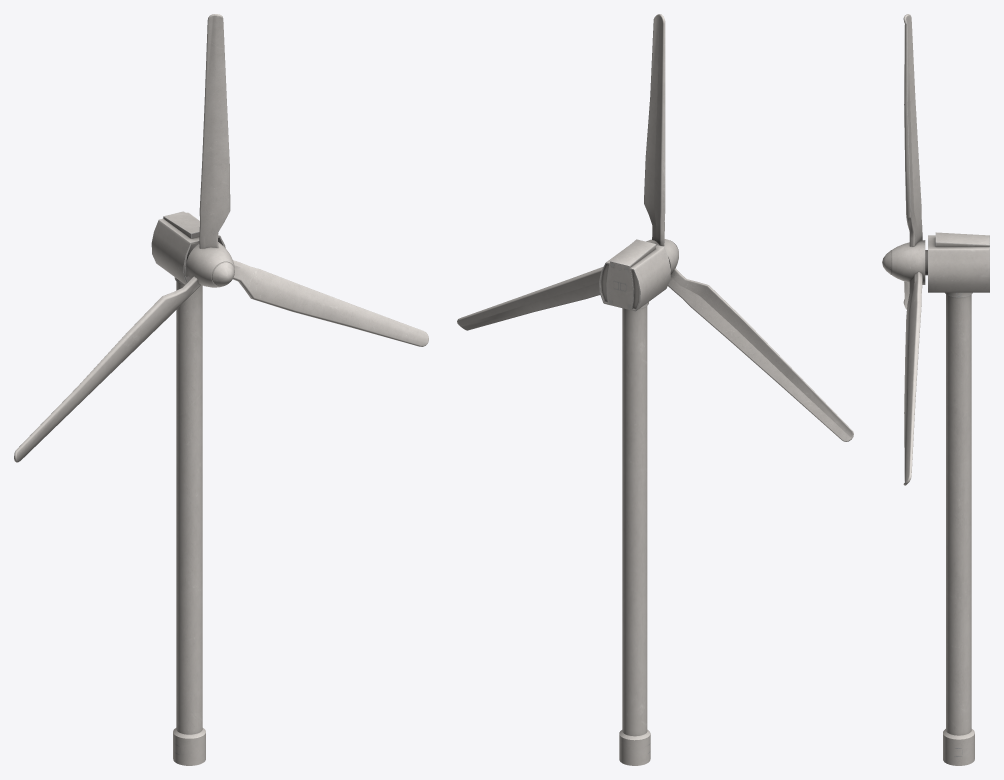
File: Sketchfab_2020_12_13_15_47_50.fbx
3 renders of one model, left to right at view 1: azimuth 30°, elevation 25°; view 2: azimuth 150°, elevation 25°; view 3: azimuth 270°, elevation 25°, orthographic. The views are drawn at different scales.
Visible parts, largest first — view 1: Blades, Main Unit; view 2: Main Unit, Blades; view 3: Main Unit, Blades.
Boxes of the visible parts, x1=… form: Blades: x1=14, y1=14, x2=428, y2=462; Main Unit: x1=151, y1=211, x2=225, y2=765; Main Unit: x1=599, y1=239, x2=670, y2=765; Blades: x1=457, y1=14, x2=853, y2=441; Main Unit: x1=928, y1=232, x2=989, y2=765; Blades: x1=882, y1=14, x2=927, y2=485.
Size of the model in its own units: 4545 by 7985 by 1049.
